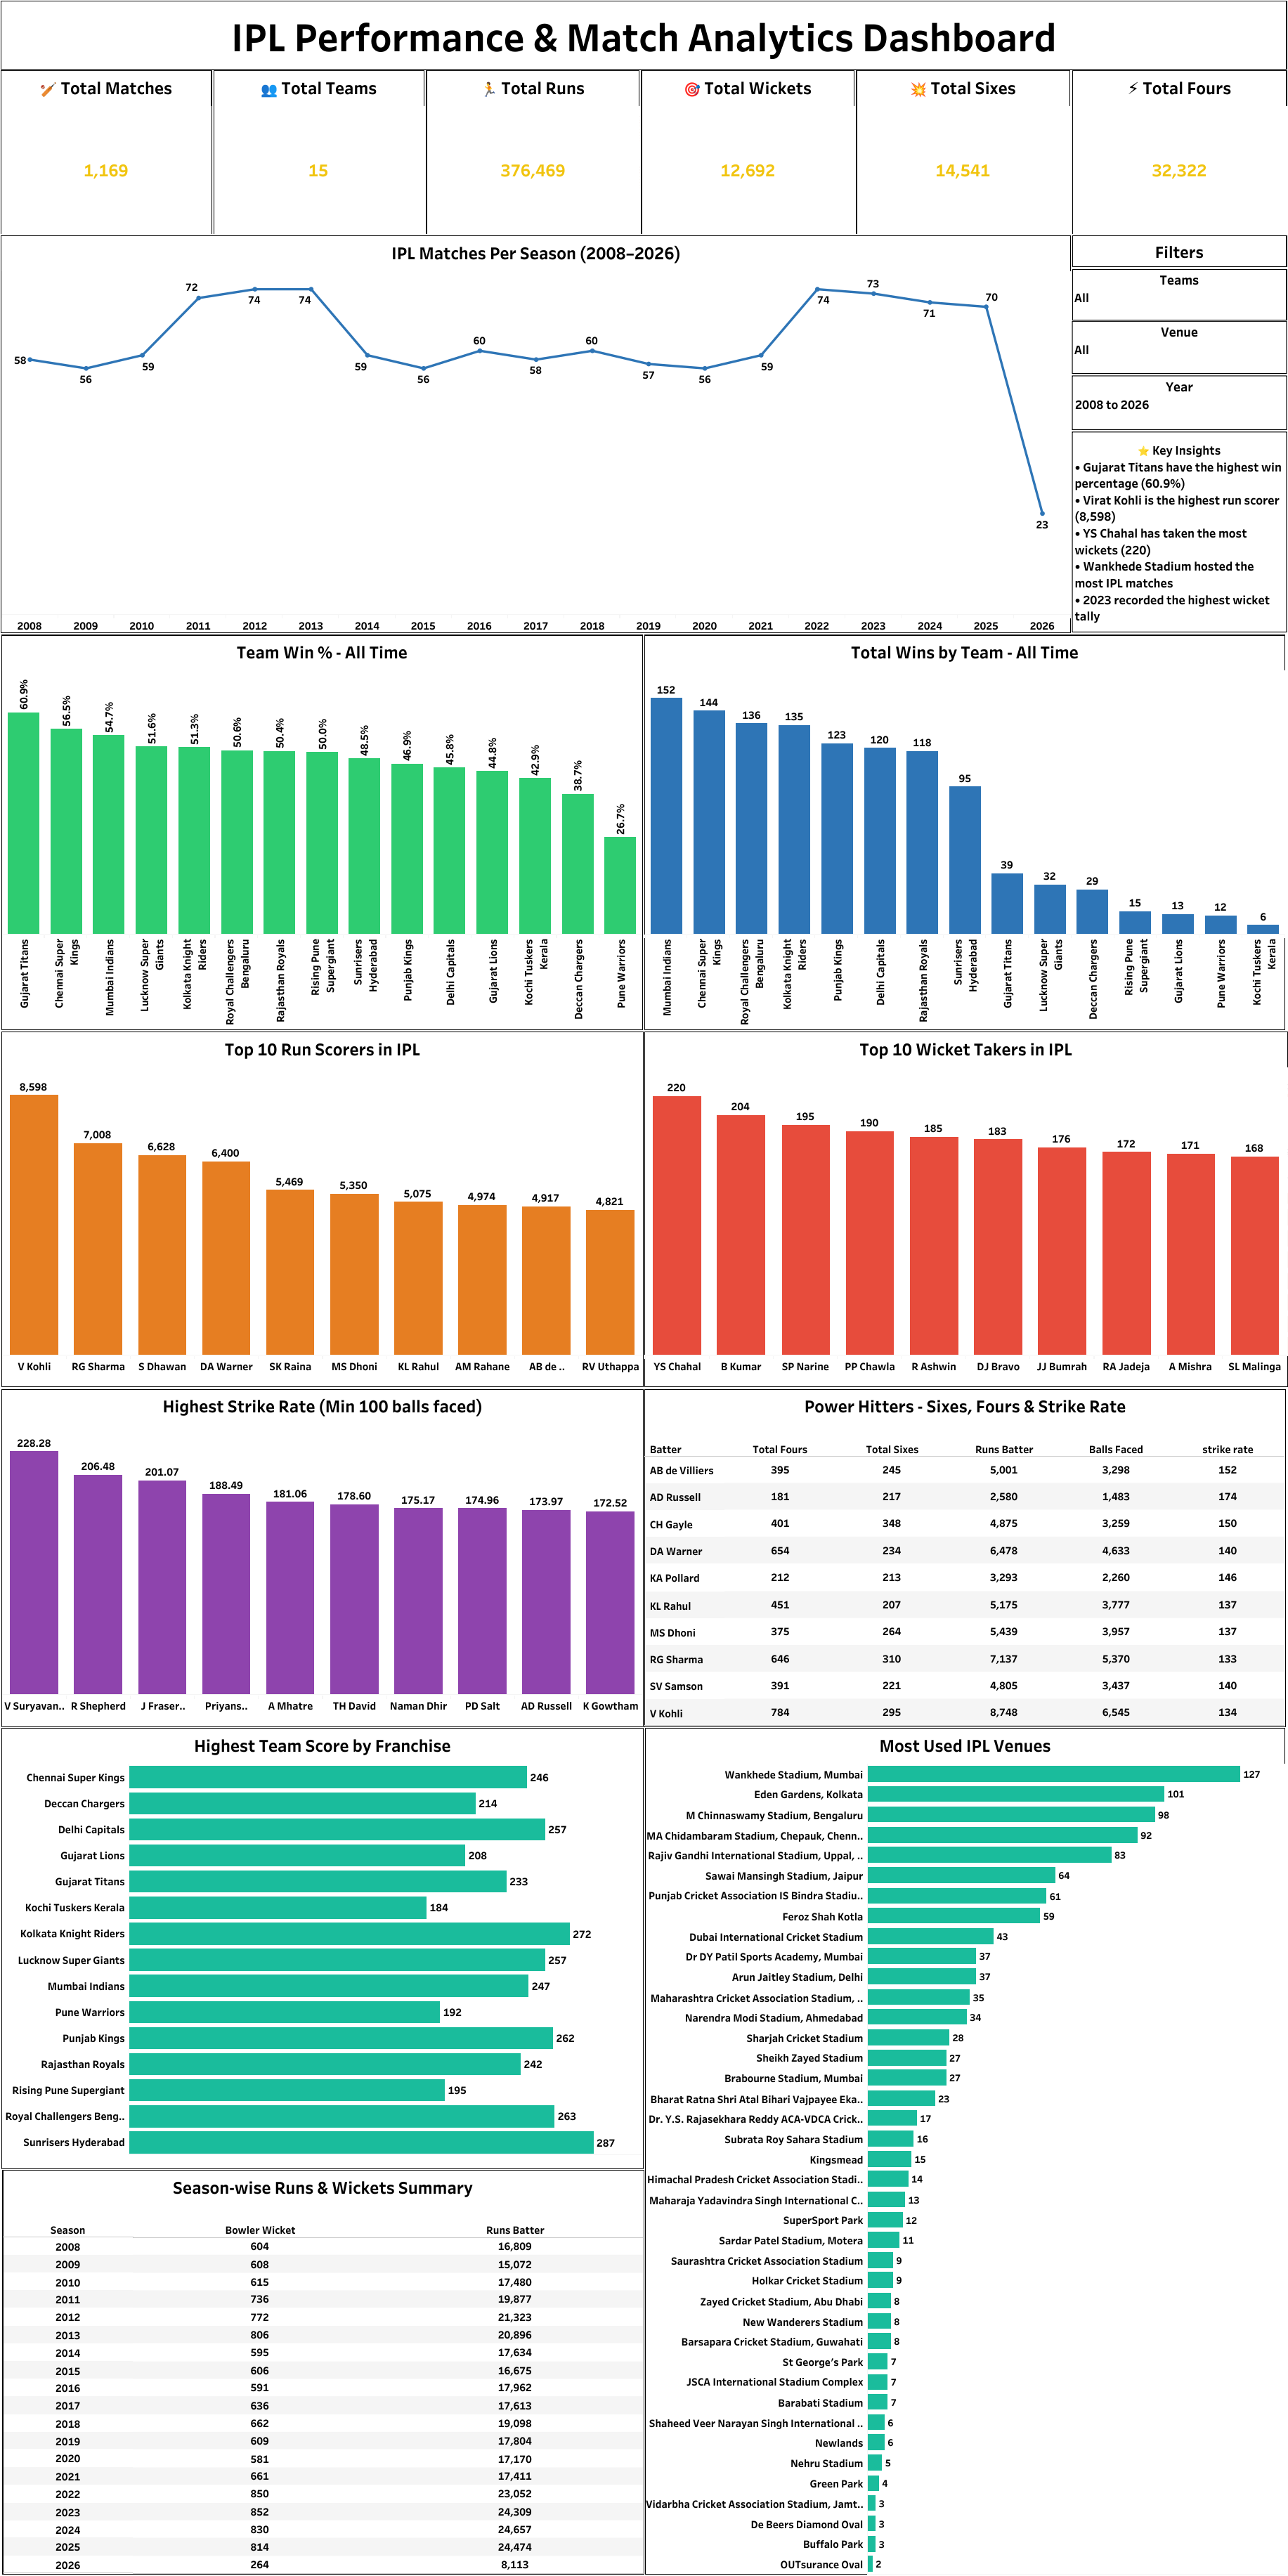

What the dashboard file says about the page in this screenshot:
{"tool":"tableau","page":{"name":"Dashboard 1","canvas":[1000,1000],"units":"permille","ordinal":0},"visuals":[{"type":"text","box":[0.6,0.3,998.2,26.7]},{"type":"worksheet","title":"🏏 Total Matches","mark":"Automatic","box":[0.6,27.3,163.8,63.5]},{"type":"worksheet","title":"👥 Total Teams","mark":"Automatic","box":[165.6,27.3,163.8,63.5]},{"type":"worksheet","title":"🏃 Total Runs","mark":"Automatic","box":[330.7,27.3,165.6,63.5]},{"type":"worksheet","title":"🎯 Total Wickets","mark":"Automatic","box":[497.6,27.3,165.6,63.5]},{"type":"worksheet","title":"💥 Total Sixes","mark":"Automatic","box":[664.4,27.3,166.3,63.5]},{"type":"worksheet","title":"⚡ Total Fours","mark":"Automatic","box":[831.9,27.3,166.9,63.5]},{"type":"worksheet","title":"Matches by Season","mark":"Line","rows":["match_id"],"cols":["season"],"box":[0.6,91.4,830.7,154.3]},{"type":"text","box":[831.9,91.4,166.9,12.3]},{"type":"filter","title":"Matches by Season","param":"[federated.0gfzi02028b6xu13lmqn81hukpde].[none:batting_team:nk]","box":[831.9,104.3,166.9,19.9]},{"type":"filter","title":"Matches by Season","param":"[federated.0gfzi02028b6xu13lmqn81hukpde].[none:venue:nk]","box":[831.9,124.5,166.9,20.6]},{"type":"filter","title":"Matches by Season","param":"[federated.0gfzi02028b6xu13lmqn81hukpde].[none:year:qk]","box":[831.9,145.7,166.9,21.2]},{"type":"text","box":[831.9,167.5,166.9,77.9]},{"type":"worksheet","title":"Team Win Percentage","mark":"Automatic","rows":["Calculation_0611622130913283"],"cols":["batting_team"],"box":[1.2,246.3,497.6,153.4]},{"type":"worksheet","title":"Wins by Team","mark":"Automatic","rows":["Calculation_0611622145794058"],"cols":["batting_team"],"box":[500,246.3,497.6,153.4]},{"type":"worksheet","title":"Top 10 Run Scorers","mark":"Automatic","rows":["runs_batter"],"cols":["batter"],"box":[1.2,400.3,498.2,138]},{"type":"worksheet","title":"Top 10 Wicket Taker","mark":"Automatic","rows":["bowler_wicket"],"cols":["bowler"],"box":[500,400.3,499.4,138]},{"type":"worksheet","title":"Highest Strike Rate (Min 100 balls faced)","mark":"Automatic","rows":["Calculation_0611622135025669"],"cols":["batter"],"box":[1.2,539,498.2,131.3]},{"type":"worksheet","title":"Most Sixes and Fours and strike rate","mark":"Automatic","rows":["batter"],"box":[500,539,498.2,131.3]},{"type":"worksheet","title":"Highest Team Scores","mark":"Automatic","rows":["batting_team"],"cols":["Calculation_0611622148128780"],"box":[1.2,670.6,498.2,171.2]},{"type":"worksheet","title":"Top Venues by Matches","mark":"Bar","rows":["venue"],"cols":["match_id"],"box":[500.6,670.6,496.9,328.5]},{"type":"worksheet","title":"Runs by Season","mark":"Automatic","rows":["season"],"box":[1.8,842,498.2,157.1]}]}

Visuals, with their boxes on the dashboard's canvas, which has no fixed pixel size, in thousandths of its width and height (x1, y1, x2, y2). These are canvas units, not pixel positions in the 1288x2576 screenshot, which may show the page scaled, cropped or inside an application window:
text: x1=1, y1=0, x2=999, y2=27
"🏏 Total Matches" worksheet: x1=1, y1=27, x2=164, y2=91
"👥 Total Teams" worksheet: x1=166, y1=27, x2=329, y2=91
"🏃 Total Runs" worksheet: x1=331, y1=27, x2=496, y2=91
"🎯 Total Wickets" worksheet: x1=498, y1=27, x2=663, y2=91
"💥 Total Sixes" worksheet: x1=664, y1=27, x2=831, y2=91
"⚡ Total Fours" worksheet: x1=832, y1=27, x2=999, y2=91
"Matches by Season" worksheet (Line marks): x1=1, y1=91, x2=831, y2=246
text: x1=832, y1=91, x2=999, y2=104
"Matches by Season" filter: x1=832, y1=104, x2=999, y2=124
"Matches by Season" filter: x1=832, y1=124, x2=999, y2=145
"Matches by Season" filter: x1=832, y1=146, x2=999, y2=167
text: x1=832, y1=168, x2=999, y2=245
"Team Win Percentage" worksheet: x1=1, y1=246, x2=499, y2=400
"Wins by Team" worksheet: x1=500, y1=246, x2=998, y2=400
"Top 10 Run Scorers" worksheet: x1=1, y1=400, x2=499, y2=538
"Top 10 Wicket Taker" worksheet: x1=500, y1=400, x2=999, y2=538
"Highest Strike Rate (Min 100 balls faced)" worksheet: x1=1, y1=539, x2=499, y2=670
"Most Sixes and Fours and strike rate" worksheet: x1=500, y1=539, x2=998, y2=670
"Highest Team Scores" worksheet: x1=1, y1=671, x2=499, y2=842
"Top Venues by Matches" worksheet (Bar marks): x1=501, y1=671, x2=998, y2=999
"Runs by Season" worksheet: x1=2, y1=842, x2=500, y2=999
